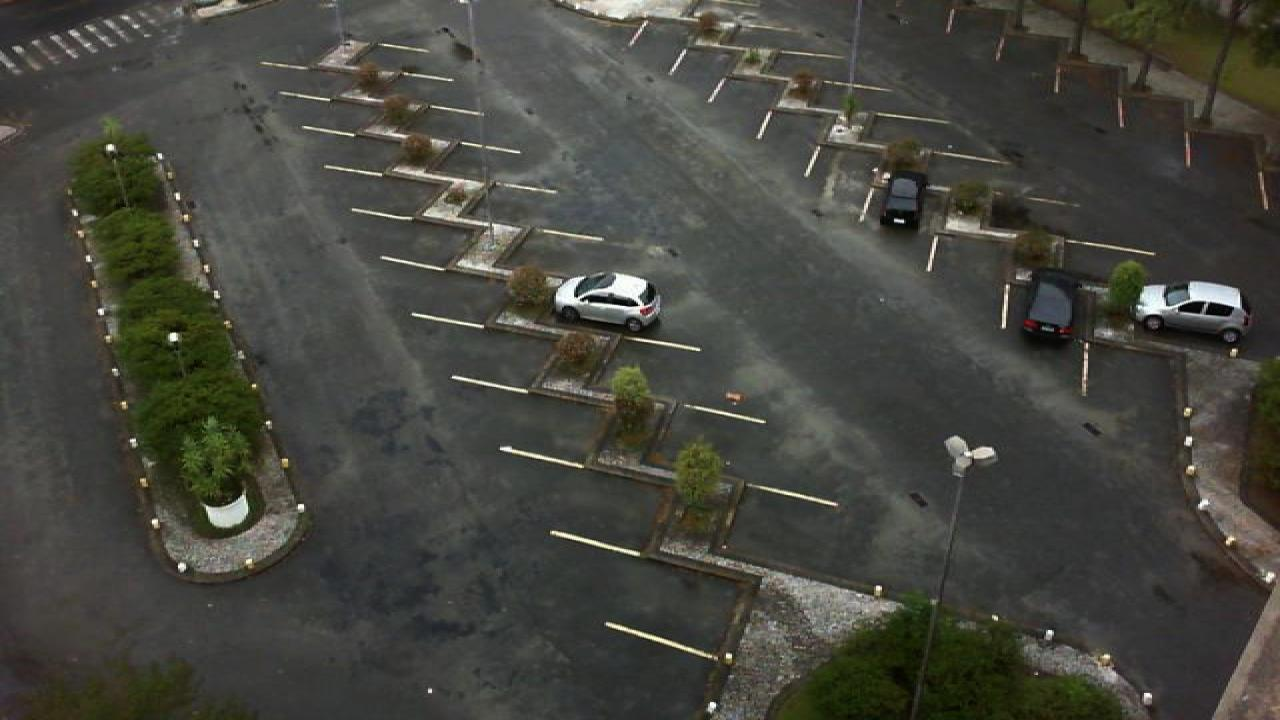Car: (1130, 280, 1254, 344), (552, 271, 662, 333), (1018, 268, 1078, 343), (878, 170, 928, 231)
